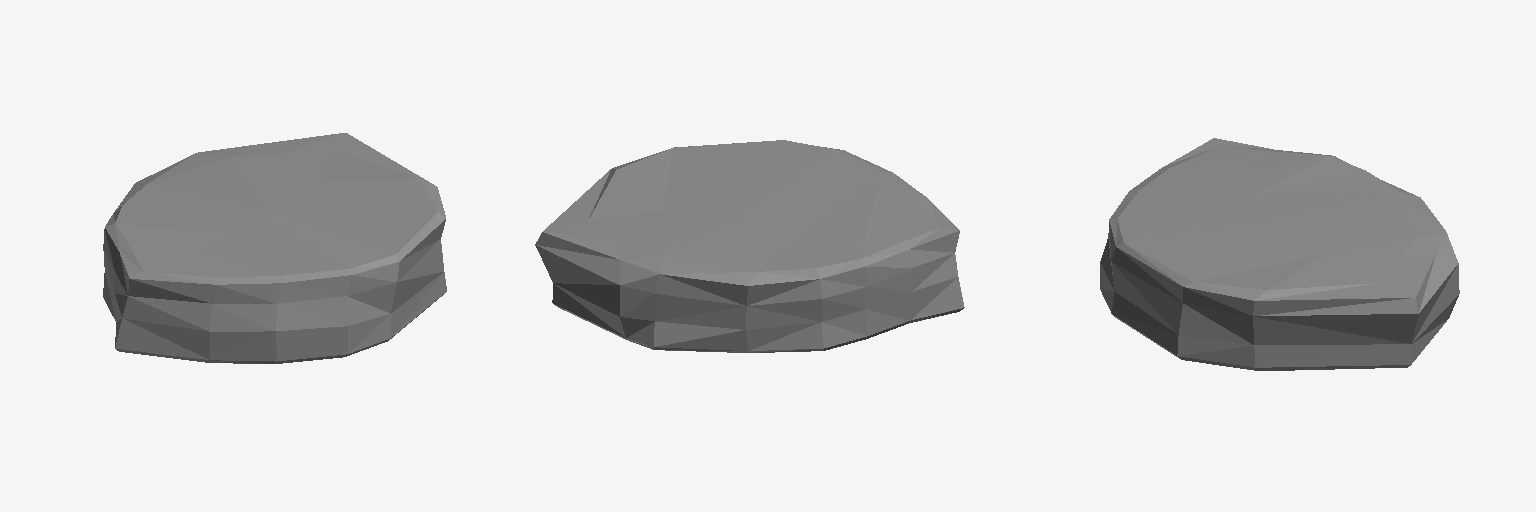
Rendered from Foss02.obj.
The picture shows the model from 3 angles: view 1: azimuth 30°, elevation 25°; view 2: azimuth 150°, elevation 25°; view 3: azimuth 270°, elevation 25°; orthographic projection.
Visible parts, largest first — view 1: SandstoneRawLo; view 2: SandstoneRawLo; view 3: SandstoneRawLo.
Part boxes in pixels (x1,y1,x2,y2): SandstoneRawLo: (103,133,446,363); SandstoneRawLo: (535,140,964,352); SandstoneRawLo: (1100,138,1459,370).
Bounding box in the file's own units: 0.2652 × 0.0659 × 0.2444.